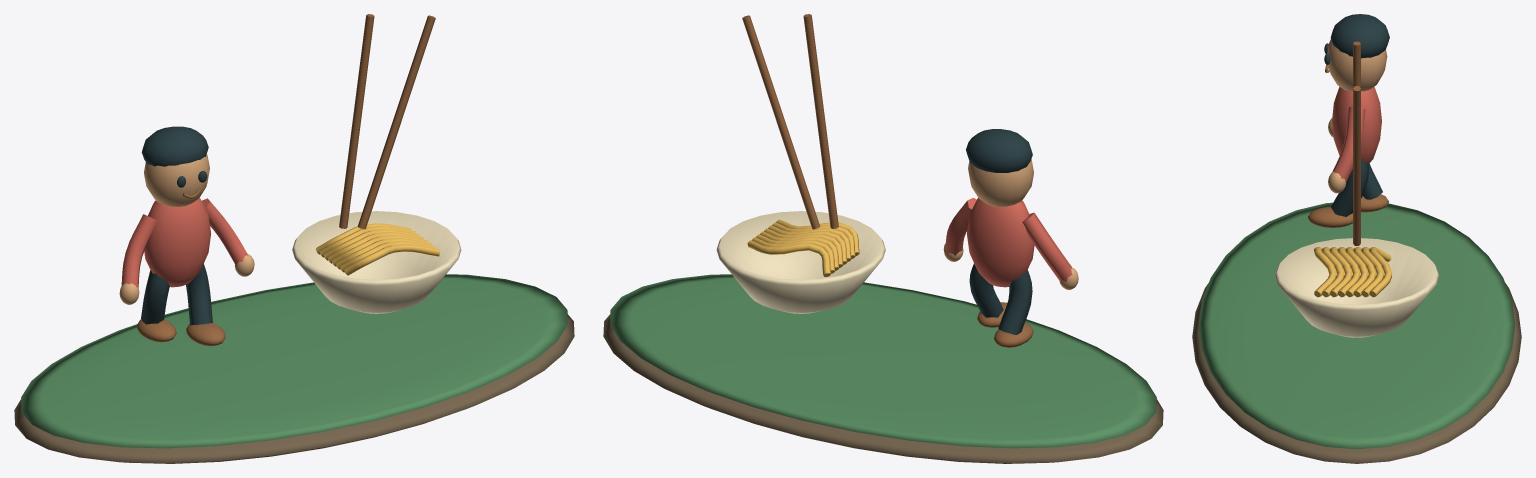
The model's file is child-chopsticks.glb.
3 views of the same model, side by side, from view 1: azimuth 30°, elevation 25°; view 2: azimuth 150°, elevation 25°; view 3: azimuth 270°, elevation 25° (orthographic). The views are drawn at different scales.
Visible parts, largest first — view 1: child-chopsticks_surface_01, child-chopsticks_surface_00, child-chopsticks_surface_06, child-chopsticks_surface_05, child-chopsticks_surface_02, child-chopsticks_surface_04, child-chopsticks_surface_07, child-chopsticks_surface_03; view 2: child-chopsticks_surface_01, child-chopsticks_surface_00, child-chopsticks_surface_06, child-chopsticks_surface_05, child-chopsticks_surface_02, child-chopsticks_surface_04, child-chopsticks_surface_07, child-chopsticks_surface_03; view 3: child-chopsticks_surface_01, child-chopsticks_surface_06, child-chopsticks_surface_00, child-chopsticks_surface_07, child-chopsticks_surface_04, child-chopsticks_surface_05, child-chopsticks_surface_02, child-chopsticks_surface_03.
Boxes of the visible parts, x1,y1,x2,y2 form: child-chopsticks_surface_01: (21, 274, 567, 448); child-chopsticks_surface_00: (14, 314, 574, 463); child-chopsticks_surface_06: (292, 211, 461, 313); child-chopsticks_surface_05: (121, 198, 247, 287); child-chopsticks_surface_02: (137, 14, 435, 346); child-chopsticks_surface_04: (141, 126, 212, 325); child-chopsticks_surface_07: (315, 223, 439, 275); child-chopsticks_surface_03: (119, 154, 254, 304); child-chopsticks_surface_01: (610, 274, 1156, 448); child-chopsticks_surface_00: (603, 314, 1163, 463); child-chopsticks_surface_06: (716, 211, 885, 313); child-chopsticks_surface_05: (945, 197, 1072, 287); child-chopsticks_surface_02: (742, 14, 1033, 347); child-chopsticks_surface_04: (966, 129, 1032, 334); child-chopsticks_surface_07: (747, 219, 859, 276); child-chopsticks_surface_03: (943, 159, 1078, 289); child-chopsticks_surface_01: (1199, 202, 1514, 449); child-chopsticks_surface_06: (1274, 238, 1439, 337); child-chopsticks_surface_00: (1192, 283, 1521, 463); child-chopsticks_surface_07: (1314, 247, 1391, 297); child-chopsticks_surface_04: (1324, 14, 1389, 216); child-chopsticks_surface_05: (1331, 86, 1381, 182); child-chopsticks_surface_02: (1307, 41, 1388, 245); child-chopsticks_surface_03: (1327, 39, 1387, 193).
Bounding box in the file's own units: 4.56 × 2.89 × 2.5.
